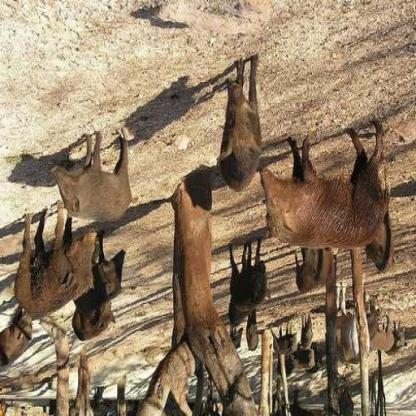boar: (255, 107, 416, 269), (26, 121, 148, 220), (207, 48, 283, 197), (12, 218, 106, 317), (56, 284, 138, 340), (210, 251, 278, 309), (89, 248, 146, 299), (0, 316, 46, 363)
